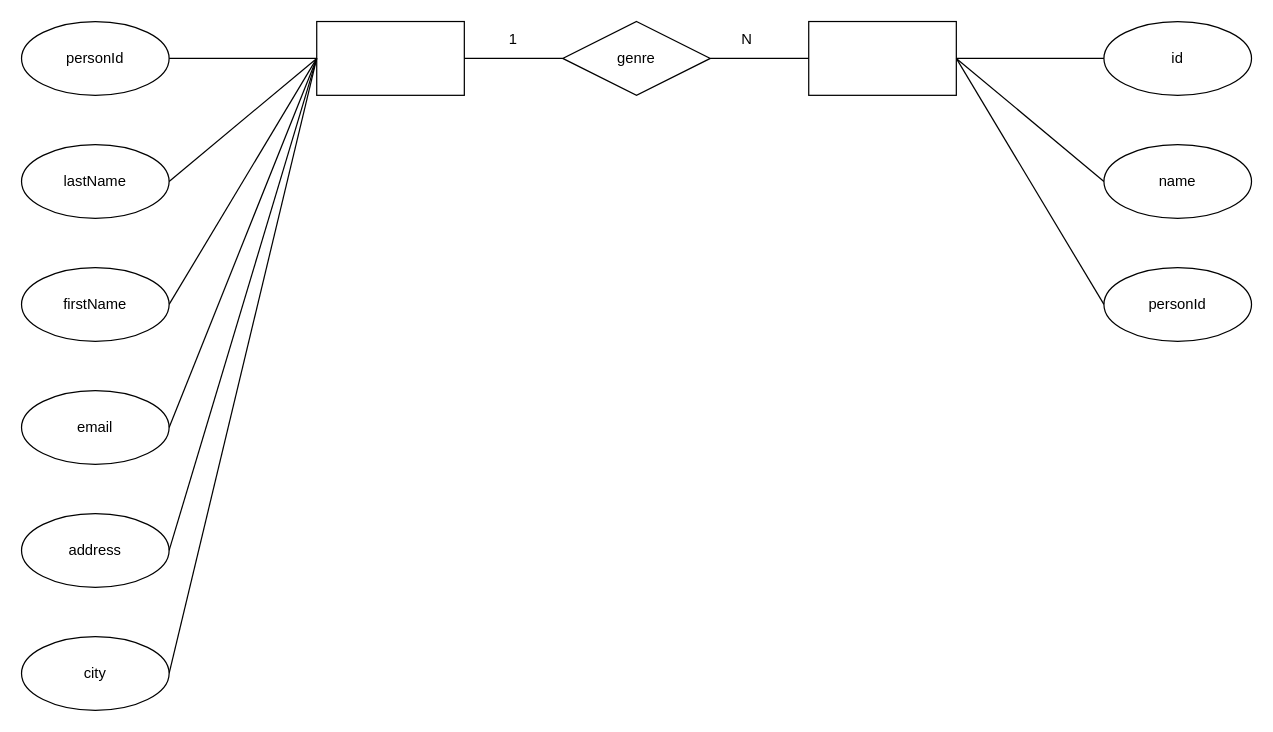
The diagram is 1273 pixels wide and 732 high, and some of its shapes have lost their labels. Each missing label, with the box of its shape:
HOBBIES: (807, 20, 956, 95)
PERSONS: (315, 20, 464, 95)
